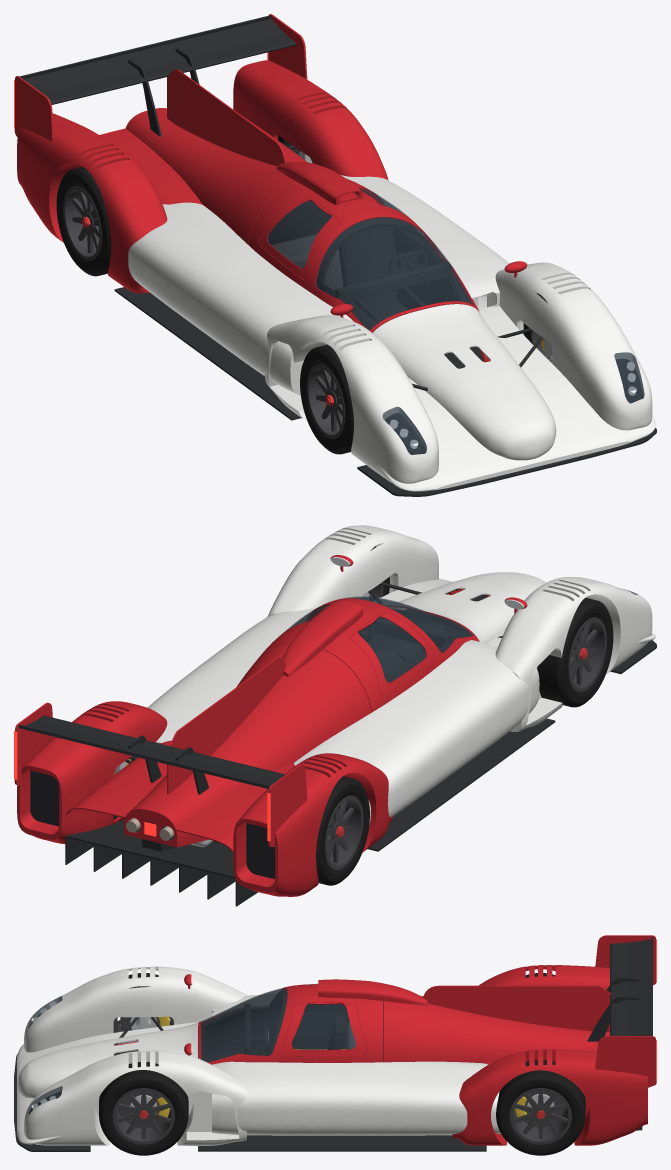
File: gtp_prototype.glb
The picture shows the model from 3 angles, top to bottom: view 1: azimuth 30°, elevation 25°; view 2: azimuth 150°, elevation 25°; view 3: azimuth 270°, elevation 25°; orthographic projection. The views are drawn at different scales.
Visible parts, largest first — view 1: sidepod_right, nose_cone, front_fender_left, front_fender_right, front_deck, rear_fender_right, windscreen, rear_fender_left, rear_wing, engine_cover, monocoque, sidepod_left (+19 smaller); view 2: sidepod_right, engine_cover, rear_fender_right, front_fender_right, rear_fender_left, front_fender_left, diffuser, sidepod_left, rear_deck, nose_cone, rear_wing, shark_fin (+17 smaller); view 3: sidepod_left, front_fender_left, front_fender_right, rear_fender_left, engine_cover, shark_fin, monocoque, nose_cone, windscreen, floor, cockpit_canopy, rear_wing (+15 smaller).
Boxes of the visible parts, x1,y1,x2,y2 form: sidepod_right: (128,202,353,395); nose_cone: (373,304,556,460); front_fender_left: (487,262,652,430); front_fender_right: (264,315,438,483); front_deck: (374,306,655,491); rear_fender_right: (17,113,167,293); windscreen: (315,217,473,330); rear_fender_left: (233,60,388,179); rear_wing: (19,15,296,104); engine_cover: (125,108,295,244); monocoque: (268,189,483,368); sidepod_left: (341,175,509,310); sidepod_right: (294,640,539,824); engine_cover: (124,643,371,847); rear_fender_right: (233,753,392,896); front_fender_right: (495,577,652,731); rear_fender_left: (17,701,167,844); front_fender_left: (267,525,438,616); diffuser: (65,819,257,906); sidepod_left: (147,608,316,743); rear_deck: (65,740,295,852); nose_cone: (388,572,546,644); rear_wing: (18,715,285,788); shark_fin: (167,657,286,794); sidepod_left: (212,1061,500,1135); front_fender_left: (24,1050,246,1145); front_fender_right: (24,966,246,1052); rear_fender_left: (452,1049,647,1145); engine_cover: (383,995,609,1063); shark_fin: (422,985,611,1031); monocoque: (114,990,383,1062); nose_cone: (17,1022,197,1109); windscreen: (201,987,287,1062); floor: (117,1108,486,1151); cockpit_canopy: (198,984,382,1064); rear_wing: (610,936,652,1035).
Size of the model in its own units: 2 by 1.07 by 5.1.
